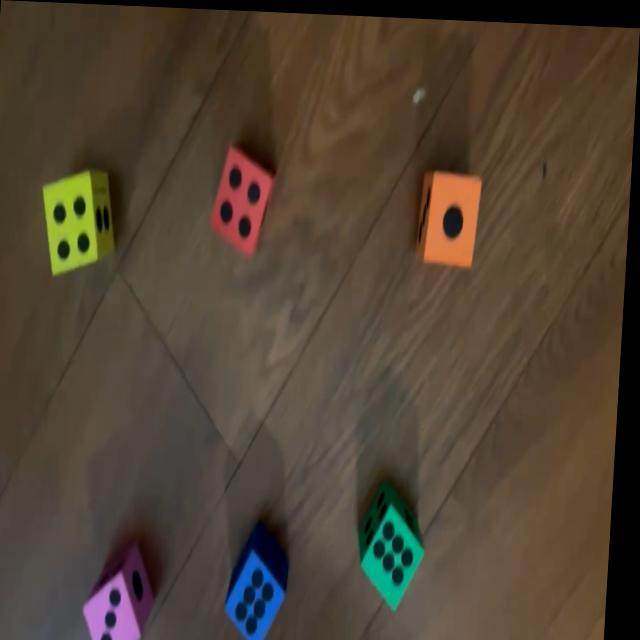cube: (362, 474, 433, 608), (228, 523, 296, 640), (210, 143, 278, 255)
